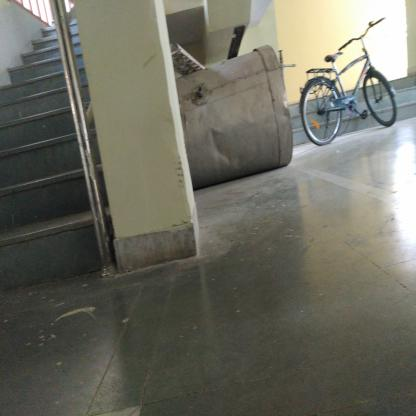stairs: (3, 86, 66, 302)
